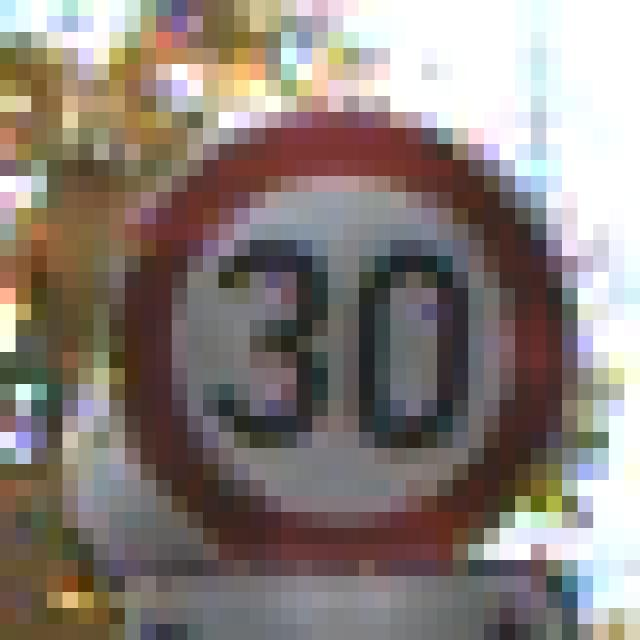Speed Limit -30-: (86, 72, 554, 536)
